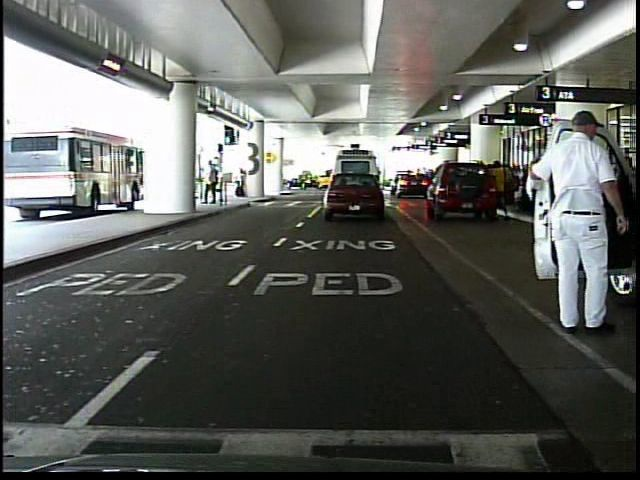person: (526, 107, 624, 340), (575, 149, 604, 224), (493, 156, 513, 223), (203, 155, 220, 208), (235, 165, 252, 201)
